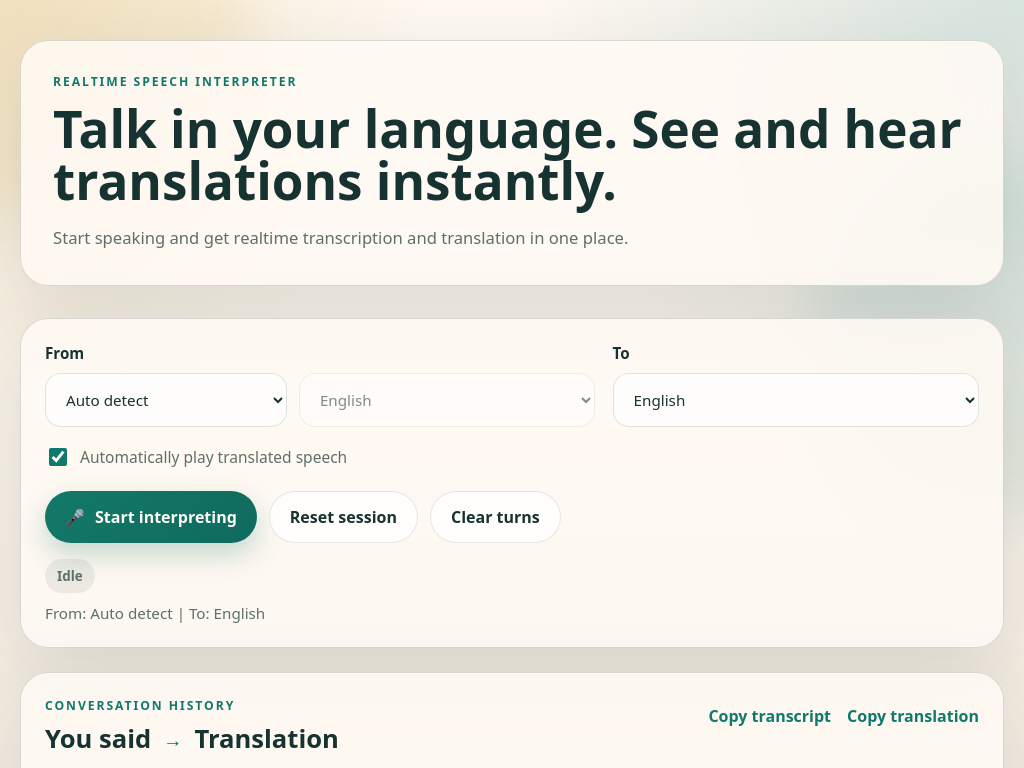
it: TranslatorApp › disables automatic playback and hides replay controls when speech is turned off
The width and height of the screenshot is (1024, 768).
Click the checkbox labelled "Automatically play translated speech": [58, 457] box [49, 448, 67, 466]
(page scrolled)
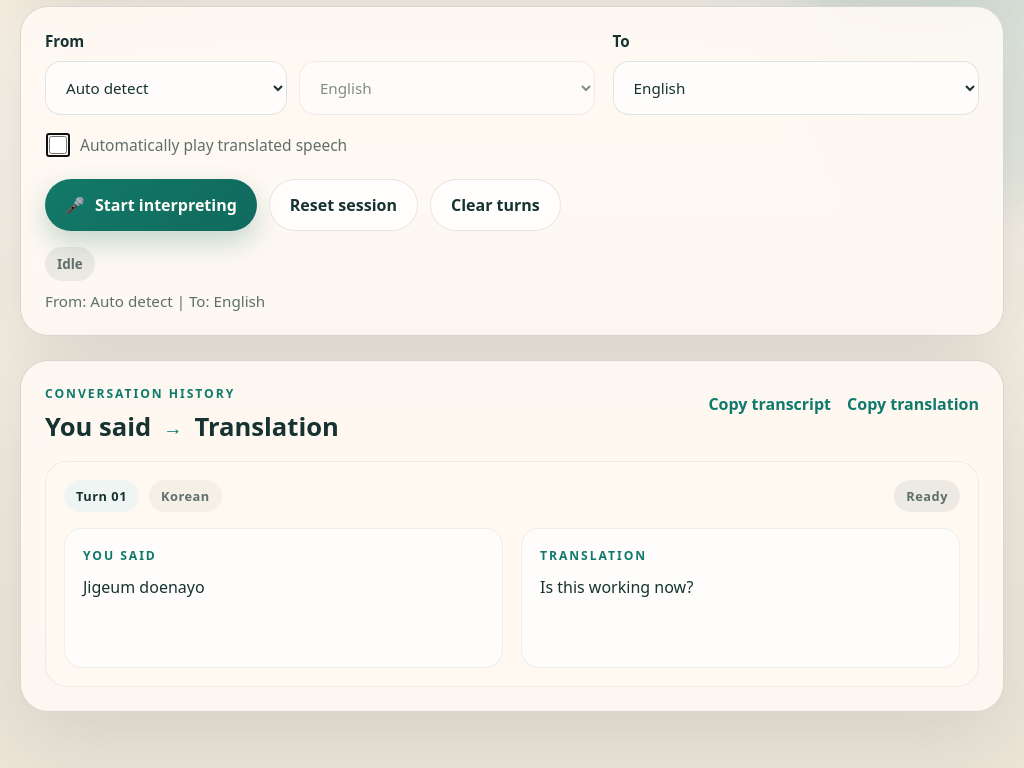
Result: the text "Is this working now?" is shown at [540, 576, 693, 598]
